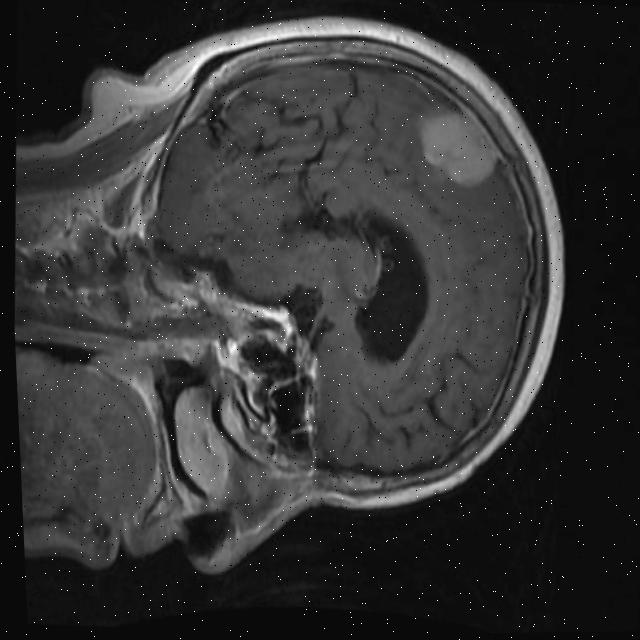Meningioma: (415, 108, 500, 189)
